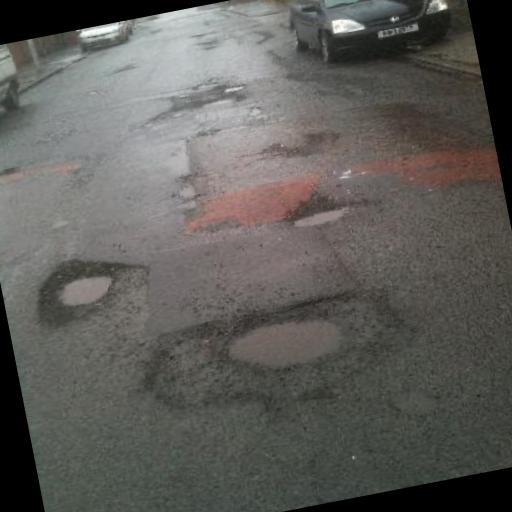pothole: (135, 278, 426, 424), (28, 248, 140, 330), (170, 78, 252, 116), (283, 194, 358, 233)
